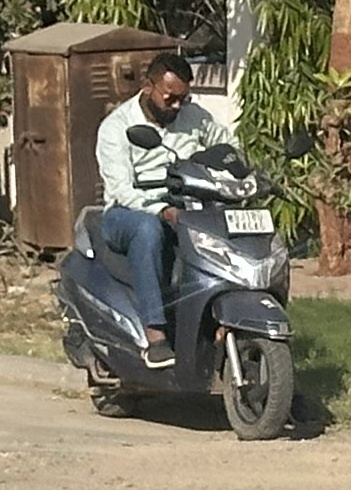BikeWithRider: (42, 44, 320, 445)
NoHelmet: (134, 47, 200, 124)
